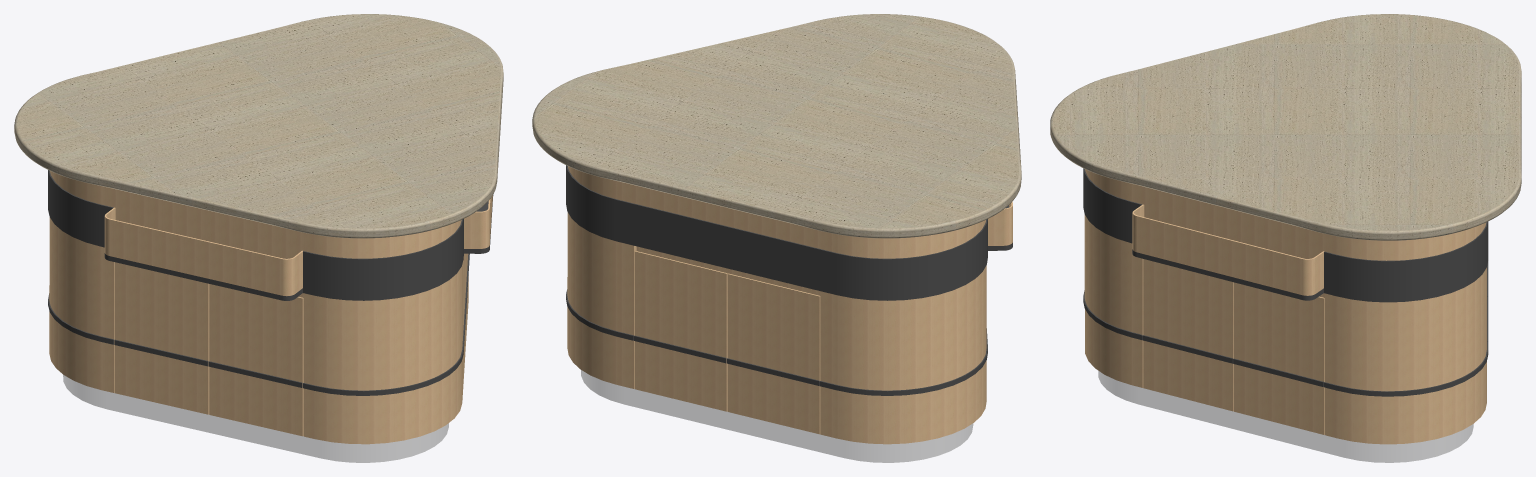
Rendered from NCTR-08A-C.FBX.
3 views of the same model, side by side, from view 1: azimuth 30°, elevation 25°; view 2: azimuth 150°, elevation 25°; view 3: azimuth 270°, elevation 25° (orthographic).
Visible parts, largest first — view 1: Joined Solid Geometry [9409326], Joined Solid Geometry [9409871], Casework-Sunray_AV-Cabinet_face-based AV Cabinet [9409611], Joined Solid Geometry [9410324], Family2 Family2 [9409992], Joined Solid Geometry [9409912], Joined Solid Geometry [9410325], Family2 Family2 [9409989], Casework-Sunray_AV-Cabinet_face-based AV Cabinet [9409610]; view 2: Joined Solid Geometry [9409326], Joined Solid Geometry [9409871], Casework-Sunray_AV-Cabinet Left Corner Module [9409385], Joined Solid Geometry [9410324], Joined Solid Geometry [9409912], Joined Solid Geometry [9410325], Family2 Family2 [9409992]; view 3: Joined Solid Geometry [9409326], Joined Solid Geometry [9409871], Casework-Sunray_AV-Cabinet_face-based AV Cabinet [9409610], Joined Solid Geometry [9410324], Family2 Family2 [9409989], Joined Solid Geometry [9409912], Joined Solid Geometry [9410325].
Boxes of the visible parts, x1,y1,x2,y2 form: Joined Solid Geometry [9409326]: (14, 14, 503, 238); Joined Solid Geometry [9409871]: (49, 171, 468, 444); Casework-Sunray_AV-Cabinet_face-based AV Cabinet [9409611]: (114, 262, 303, 436); Joined Solid Geometry [9410324]: (48, 170, 463, 300); Family2 Family2 [9409992]: (104, 207, 302, 300); Joined Solid Geometry [9409912]: (63, 374, 448, 462); Joined Solid Geometry [9410325]: (48, 253, 469, 395); Family2 Family2 [9409989]: (464, 195, 493, 253); Casework-Sunray_AV-Cabinet_face-based AV Cabinet [9409610]: (462, 253, 468, 394); Joined Solid Geometry [9409326]: (532, 14, 1021, 238); Joined Solid Geometry [9409871]: (567, 166, 986, 444); Casework-Sunray_AV-Cabinet Left Corner Module [9409385]: (634, 246, 820, 434); Joined Solid Geometry [9410324]: (566, 165, 987, 300); Joined Solid Geometry [9409912]: (581, 370, 973, 462); Joined Solid Geometry [9410325]: (566, 289, 987, 395); Family2 Family2 [9409992]: (988, 201, 1012, 250); Joined Solid Geometry [9409326]: (1050, 14, 1521, 240); Joined Solid Geometry [9409871]: (1084, 169, 1486, 444); Casework-Sunray_AV-Cabinet_face-based AV Cabinet [9409610]: (1143, 259, 1324, 434); Joined Solid Geometry [9410324]: (1083, 168, 1488, 302); Family2 Family2 [9409989]: (1132, 204, 1324, 300); Joined Solid Geometry [9409912]: (1098, 371, 1473, 462); Joined Solid Geometry [9410325]: (1083, 261, 1488, 396).
Size of the model in its own units: 76.44 by 40.94 by 69.61.
Materials: 4 (2 with a texture image).
